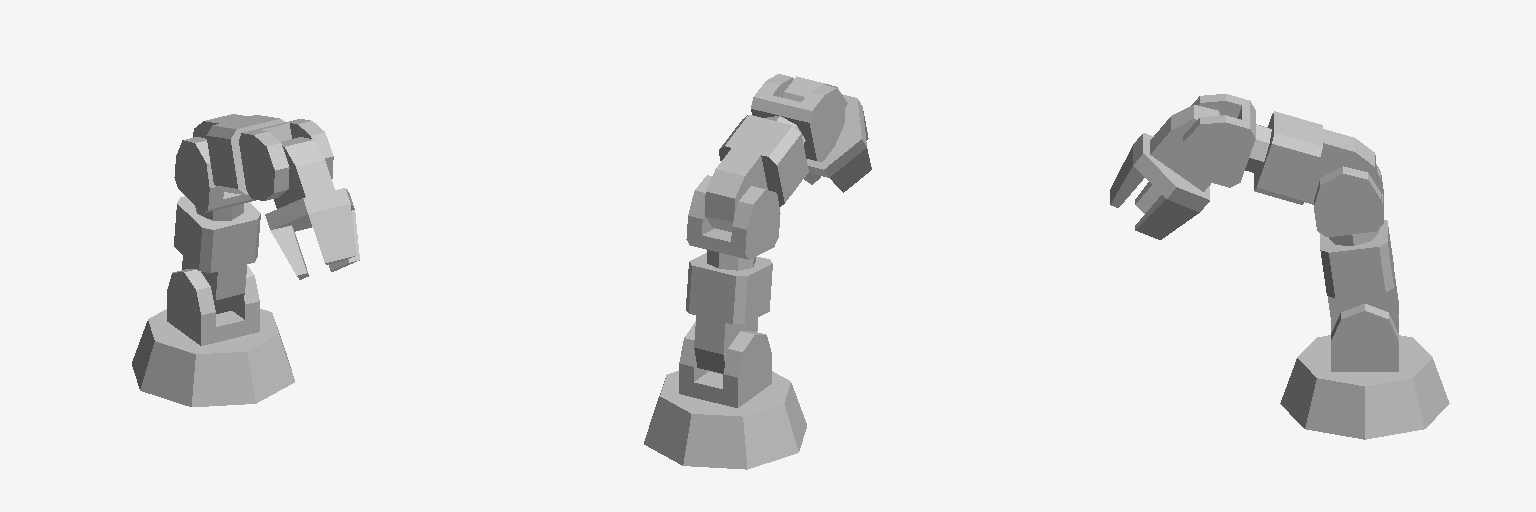
The model's file is robot-arm-b-angled.obj.
3 views of the same model, side by side, from view 1: azimuth 30°, elevation 25°; view 2: azimuth 150°, elevation 25°; view 3: azimuth 270°, elevation 25° (orthographic).
Parts seen in each view (by area): view 1: robot_arm_b; view 2: robot_arm_b; view 3: robot_arm_b.
Part boxes in pixels (x1,y1,x2,y2): robot_arm_b: (132, 114, 359, 406); robot_arm_b: (644, 74, 871, 469); robot_arm_b: (1110, 94, 1449, 439).
Bounding box in the file's own units: 1 × 1.92 × 2.